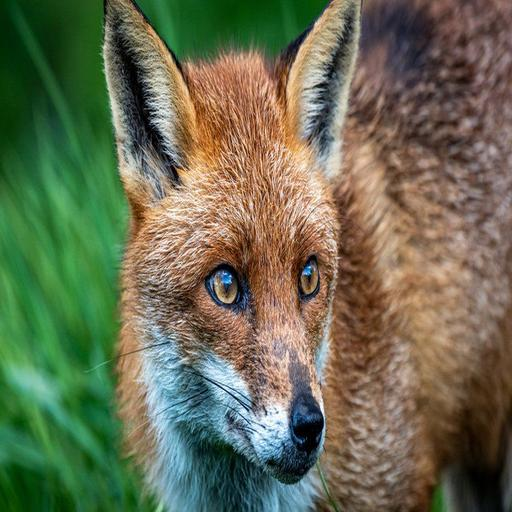Fox: (99, 0, 512, 508)
